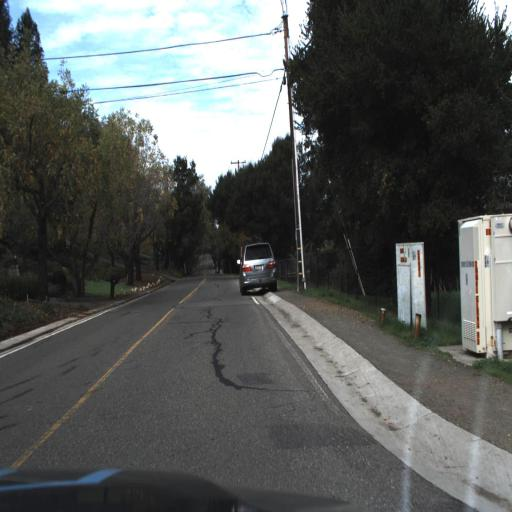car: (232, 234, 283, 305)
